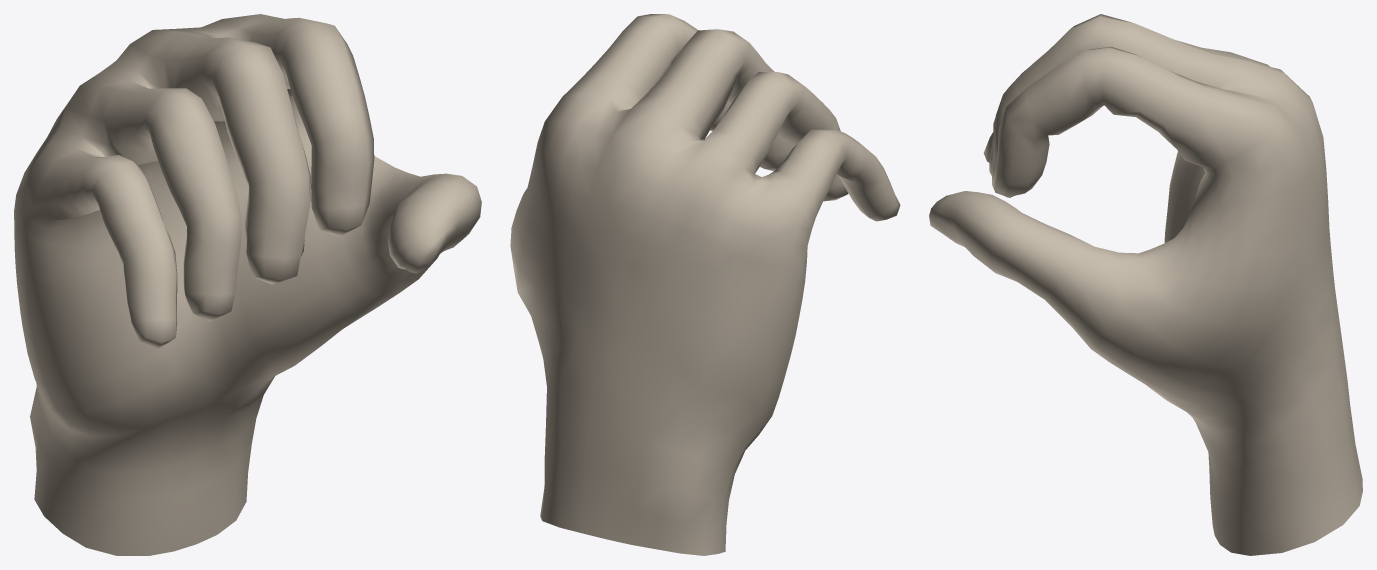
The model's file is right-hand-only.glb.
3 renders of one model, left to right at view 1: azimuth 30°, elevation 25°; view 2: azimuth 150°, elevation 25°; view 3: azimuth 270°, elevation 25°, orthographic. The views are drawn at different scales.
Visible parts, largest first — view 1: right_hand_fixed; view 2: right_hand_fixed; view 3: right_hand_fixed.
Part boxes in pixels (x1,y1,x2,y2): right_hand_fixed: (14, 14, 481, 555); right_hand_fixed: (510, 14, 900, 555); right_hand_fixed: (929, 14, 1362, 555).
Bounding box in the file's own units: 0.0981 × 0.1397 × 0.1069.
